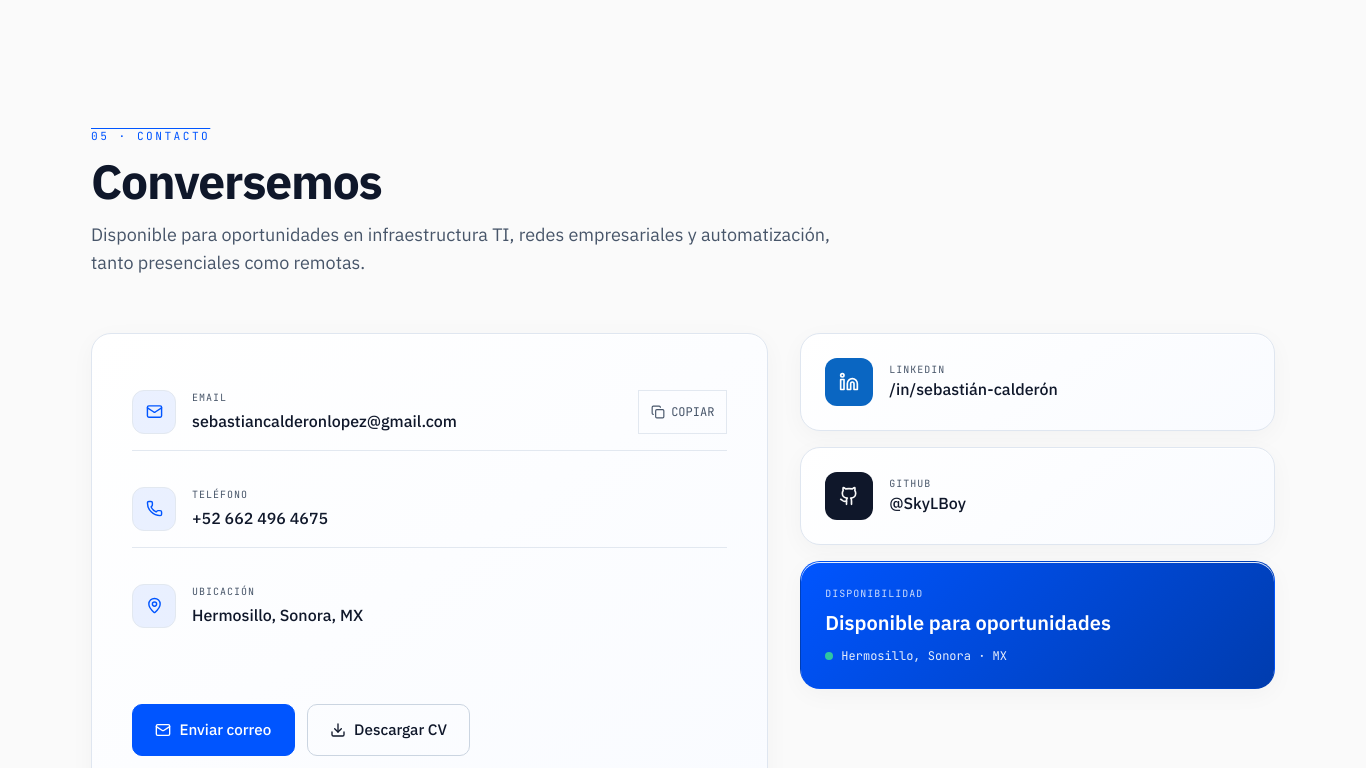
Experiencia, especialidades y contacto › maneja navegadores sin API de portapapeles y conserva enlaces y modalidad
Click the button with test id "contact-copy-email" at (683, 412), box [638, 390, 727, 434]
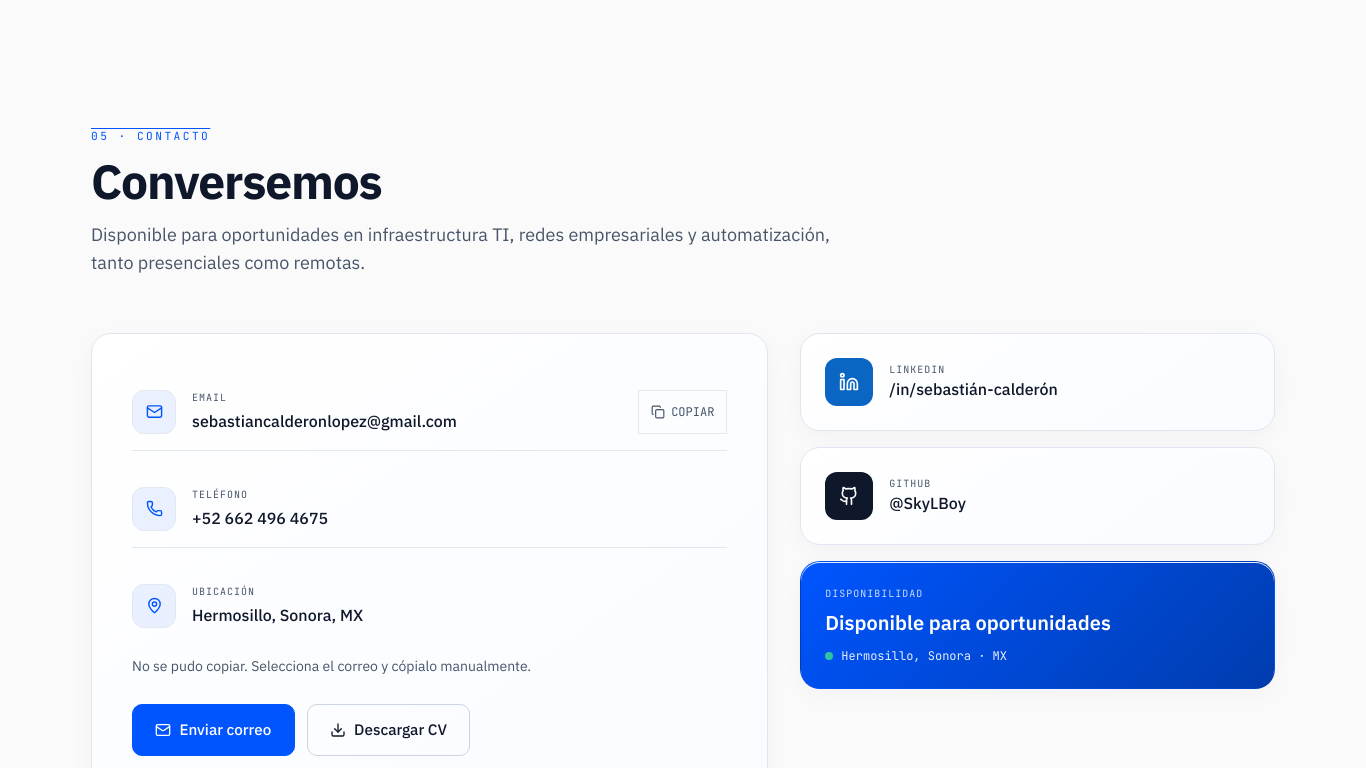
Expected: the text with test id "contact-location" reads "Hermosillo, Sonora, MX", [192, 605, 363, 625]
Now the message "No se pudo copiar. Selecciona el correo y cópialo manualmente." is shown, box [132, 657, 531, 675]
